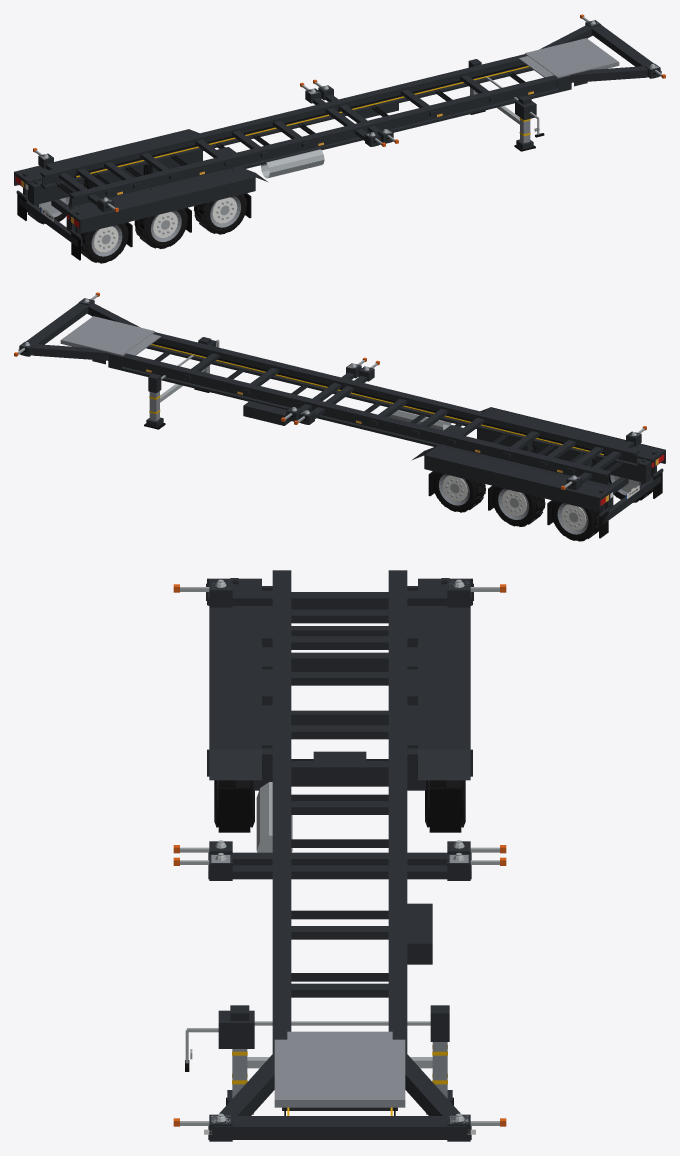
Rendered from hero-truck-chassis.glb.
3 views of the same model, one above another, from view 1: azimuth 30°, elevation 25°; view 2: azimuth 150°, elevation 25°; view 3: azimuth 270°, elevation 25° (orthographic). The views are drawn at different scales.
Parts seen in each view (by area): view 1: chassis, wheel_t3_geo, wheel_t1_geo, wheel_t2_geo; view 2: chassis, wheel_t3_geo, wheel_t1_geo, wheel_t2_geo; view 3: chassis, wheel_t1_geo, wheel_t3_geo.
Part boxes in pixels (<box>): chassis: <box>14,14,665,260</box>; wheel_t3_geo: <box>27,183,128,263</box>; wheel_t1_geo: <box>143,165,247,234</box>; wheel_t2_geo: <box>84,180,187,248</box>; chassis: <box>14,292,665,538</box>; wheel_t3_geo: <box>551,461,652,541</box>; wheel_t1_geo: <box>432,443,536,512</box>; wheel_t2_geo: <box>492,458,595,526</box>; chassis: <box>173,570,506,1141</box>; wheel_t1_geo: <box>214,775,465,827</box>; wheel_t3_geo: <box>291,652,388,669</box>.
Size of the model in its own units: 12.74 by 1.35 by 3.16.
Materials: 1 (1 with a texture image).
